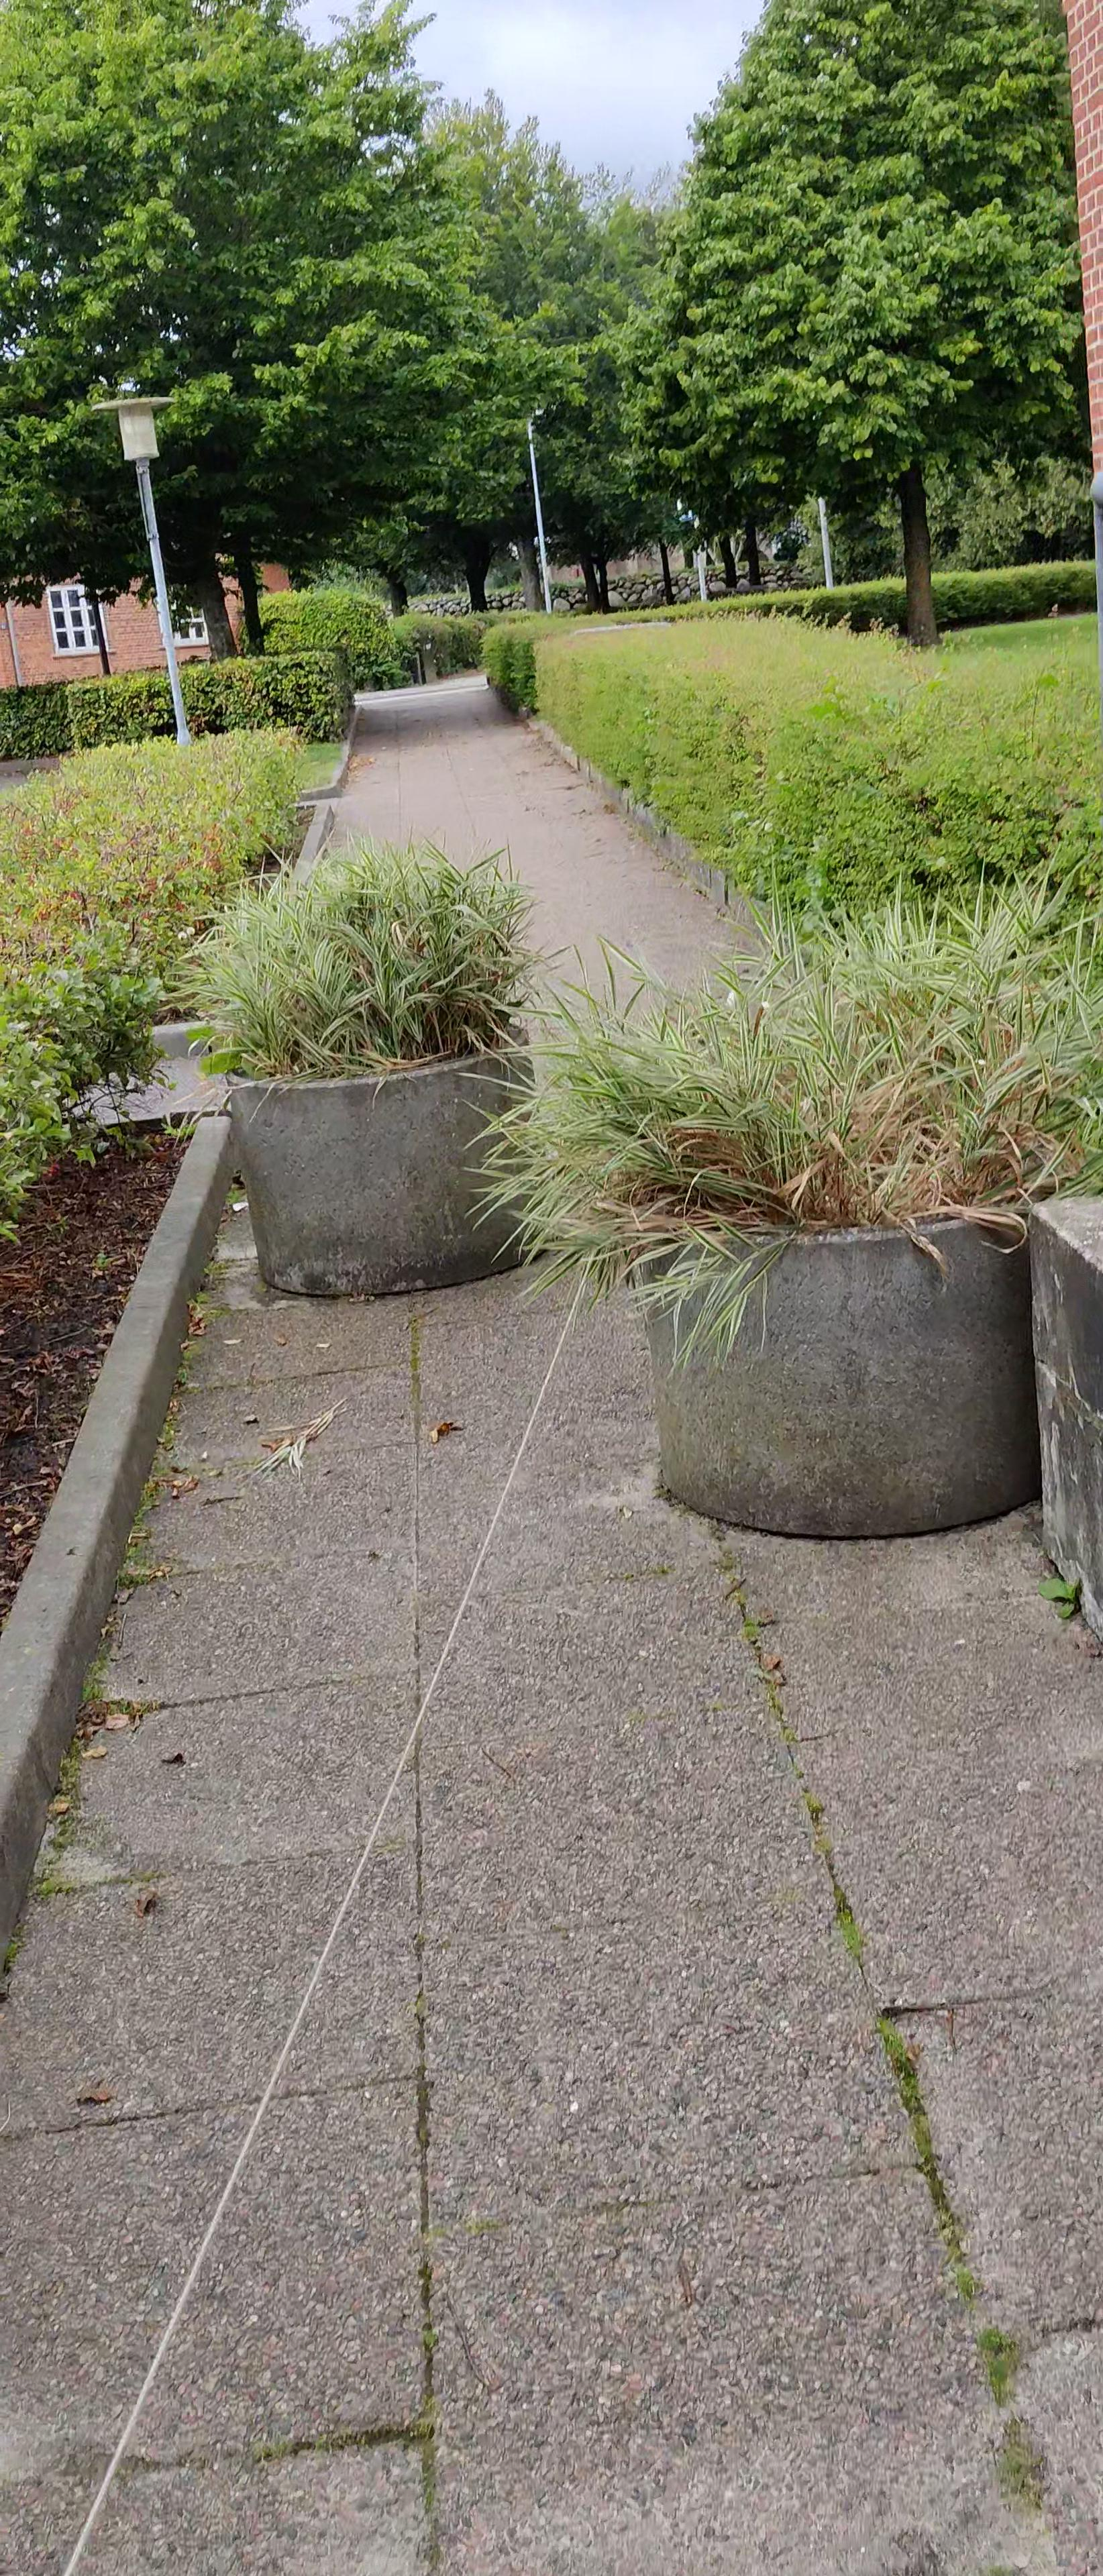Dog: (710, 974, 745, 1022)
